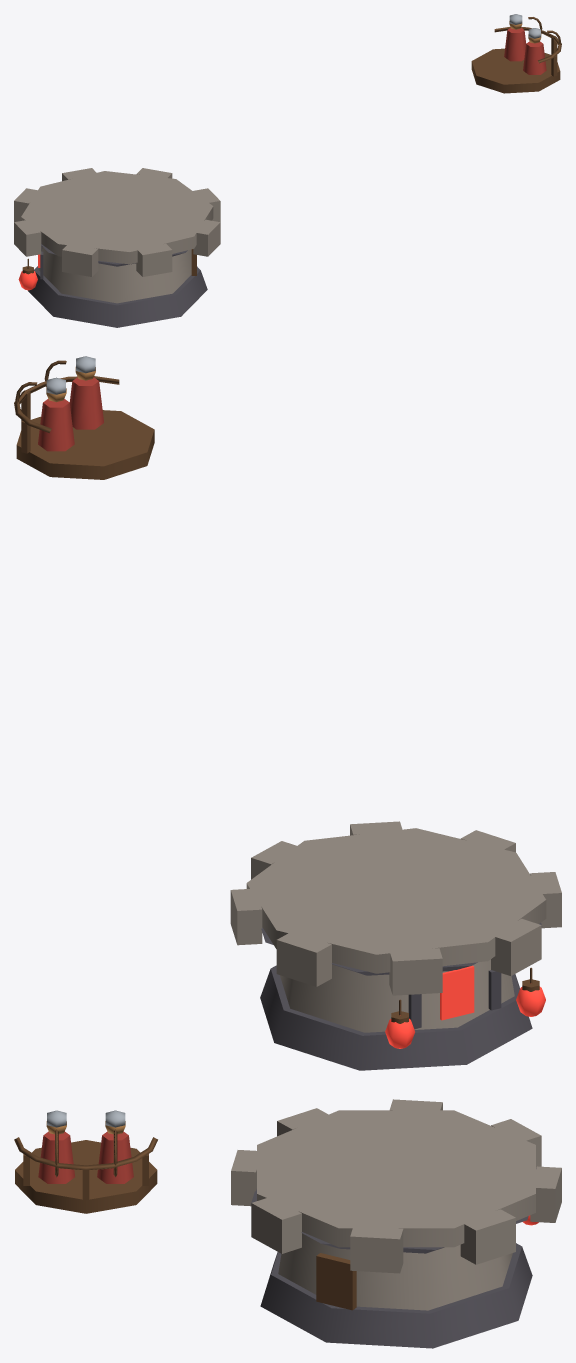
Rendered from base_standard_weapon_1.glb.
3 views of the same model, one above another, from view 1: azimuth 30°, elevation 25°; view 2: azimuth 150°, elevation 25°; view 3: azimuth 270°, elevation 25° (orthographic). The views are drawn at different scales.
Parts seen in each view (by area): view 1: tower_slot_1_plate, tower_slot_1_footing, tower_slot_1_tower, weapon_mount, tower_slot_1_merlon_6, tower_slot_1_merlon_5, tower_slot_1_merlon_7, tower_slot_1_merlon_4, archer_l_body, archer_r_body, tower_slot_1_merlon_0, tower_slot_1_merlon_3; view 2: tower_slot_1_plate, tower_slot_1_footing, tower_slot_1_tower, weapon_mount, tower_slot_1_merlon_1, tower_slot_1_merlon_0, tower_slot_1_merlon_7, tower_slot_1_merlon_2, tower_slot_1_banner, archer_l_body, archer_r_body, tower_slot_1_merlon_6; view 3: tower_slot_1_plate, tower_slot_1_footing, tower_slot_1_tower, weapon_mount, tower_slot_1_merlon_3, tower_slot_1_merlon_2, tower_slot_1_merlon_4, tower_slot_1_door, tower_slot_1_merlon_1, tower_slot_1_merlon_5, archer_l_body, archer_r_body (+5 smaller).
Boxes of the visible parts, x1=… form: tower_slot_1_plate: x1=21, y1=171, x2=213, y2=264; tower_slot_1_footing: x1=28, y1=266, x2=207, y2=327; tower_slot_1_tower: x1=38, y1=247, x2=191, y2=303; weapon_mount: x1=471, y1=48, x2=560, y2=93; tower_slot_1_merlon_6: x1=62, y1=245, x2=98, y2=276; tower_slot_1_merlon_5: x1=136, y1=243, x2=172, y2=276; tower_slot_1_merlon_7: x1=14, y1=219, x2=41, y2=256; tower_slot_1_merlon_4: x1=193, y1=219, x2=220, y2=256; archer_l_body: x1=504, y1=27, x2=526, y2=61; archer_r_body: x1=523, y1=41, x2=546, y2=74; tower_slot_1_merlon_0: x1=14, y1=188, x2=37, y2=222; tower_slot_1_merlon_3: x1=193, y1=188, x2=220, y2=222; tower_slot_1_plate: x1=246, y1=828, x2=546, y2=973; tower_slot_1_footing: x1=260, y1=965, x2=532, y2=1070; tower_slot_1_tower: x1=280, y1=959, x2=514, y2=1032; weapon_mount: x1=16, y1=410, x2=154, y2=479; tower_slot_1_merlon_1: x1=276, y1=933, x2=331, y2=986; tower_slot_1_merlon_0: x1=389, y1=948, x2=442, y2=995; tower_slot_1_merlon_7: x1=491, y1=918, x2=541, y2=975; tower_slot_1_merlon_2: x1=230, y1=888, x2=262, y2=945; tower_slot_1_banner: x1=440, y1=965, x2=474, y2=1020; archer_l_body: x1=38, y1=399, x2=74, y2=451; archer_r_body: x1=69, y1=377, x2=103, y2=429; tower_slot_1_merlon_6: x1=530, y1=872, x2=561, y2=928; tower_slot_1_plate: x1=257, y1=1110, x2=535, y2=1247; tower_slot_1_footing: x1=260, y1=1243, x2=532, y2=1348; tower_slot_1_tower: x1=278, y1=1233, x2=512, y2=1310; weapon_mount: x1=15, y1=1140, x2=157, y2=1213; tower_slot_1_merlon_3: x1=350, y1=1226, x2=403, y2=1273; tower_slot_1_merlon_2: x1=460, y1=1209, x2=515, y2=1264; tower_slot_1_merlon_4: x1=251, y1=1198, x2=301, y2=1253; tower_slot_1_door: x1=316, y1=1253, x2=356, y2=1310; tower_slot_1_merlon_1: x1=530, y1=1166, x2=561, y2=1222; tower_slot_1_merlon_5: x1=231, y1=1150, x2=261, y2=1206; archer_l_body: x1=97, y1=1131, x2=133, y2=1183; archer_r_body: x1=38, y1=1131, x2=74, y2=1183.
Size of the model in its own units: 0.9305 by 0.5448 by 0.6532.
